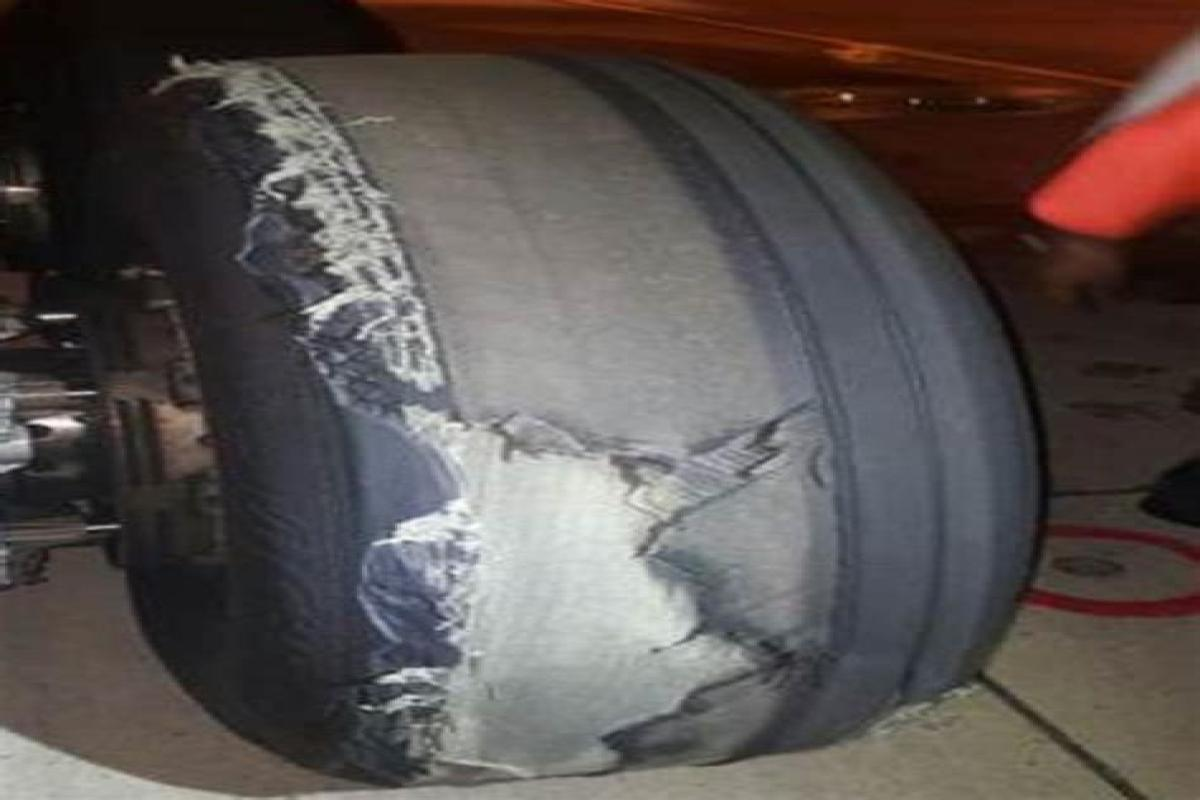Fuselage_damage: (142, 33, 891, 777)
